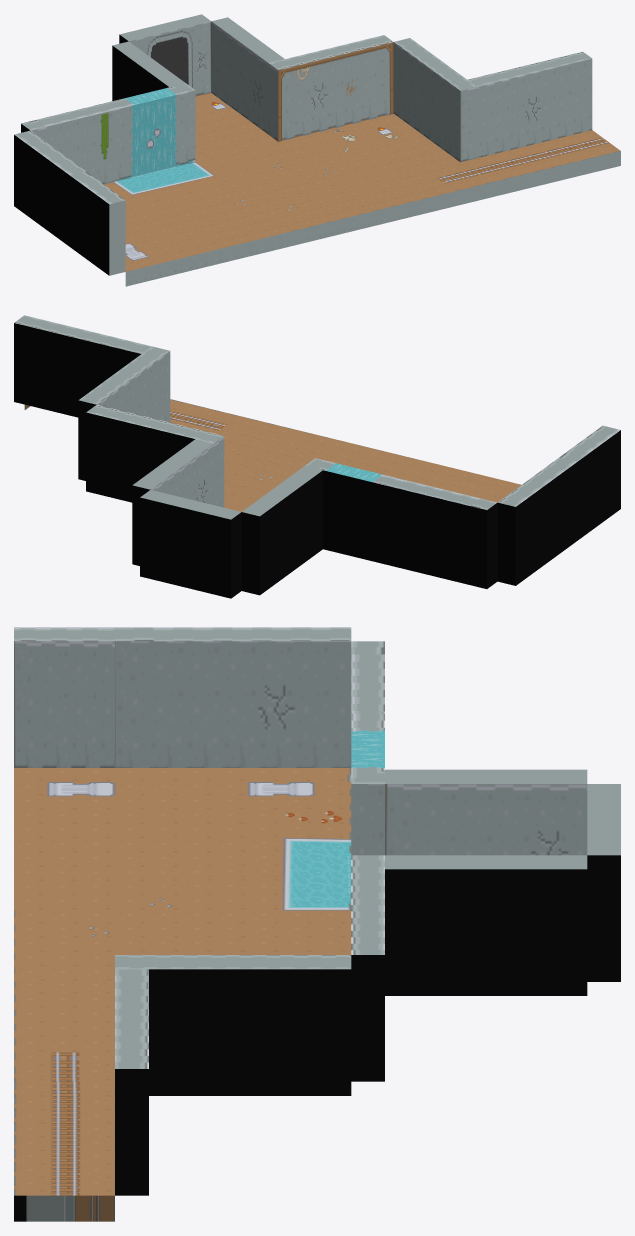
Rendered from cave.glb.
3 renders of one model, top to bottom at view 1: azimuth 30°, elevation 25°; view 2: azimuth 150°, elevation 25°; view 3: azimuth 270°, elevation 25°, orthographic. The views are drawn at different scales.
Parts seen in each view (by area): view 1: Plane; view 2: Plane; view 3: Plane.
Boxes of the visible parts, <box> form: Plane: <box>14,14,620,286</box>; Plane: <box>14,315,620,598</box>; Plane: <box>14,627,620,1221</box>.
Bounding box in the file's own units: 31 × 5 × 18.
Materials: 1 (1 with a texture image).
